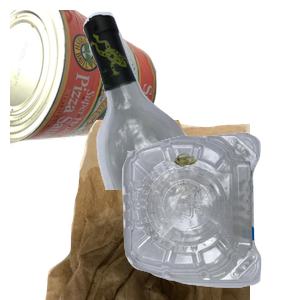glass: (81, 10, 300, 190)
metal: (10, 10, 159, 152)
plastic: (119, 130, 300, 300)
trash: (43, 120, 283, 300)
